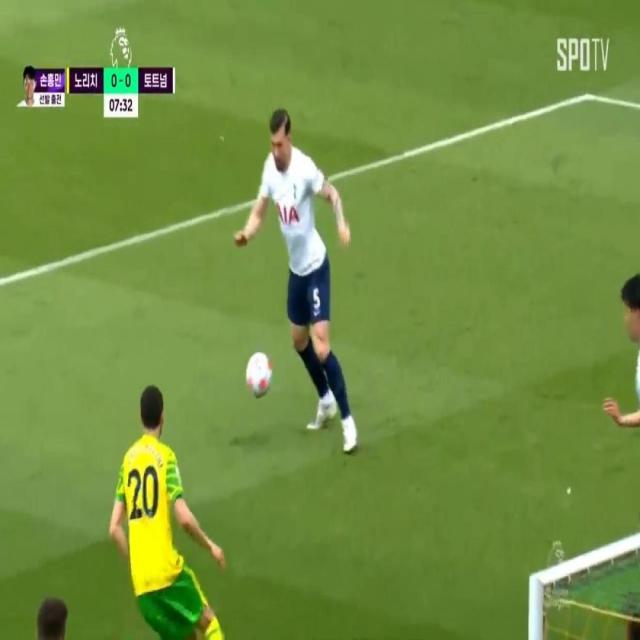ball: (243, 354, 272, 395)
player: (101, 378, 236, 640), (266, 111, 358, 458)
